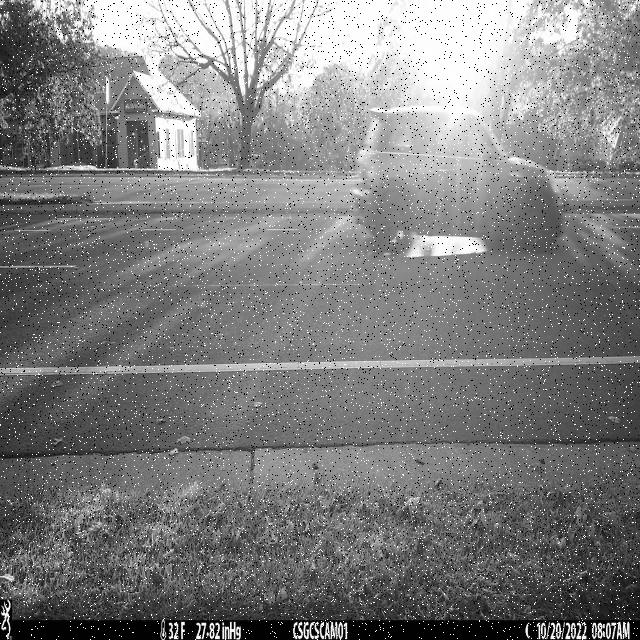Hatchback: (350, 106, 562, 257)
